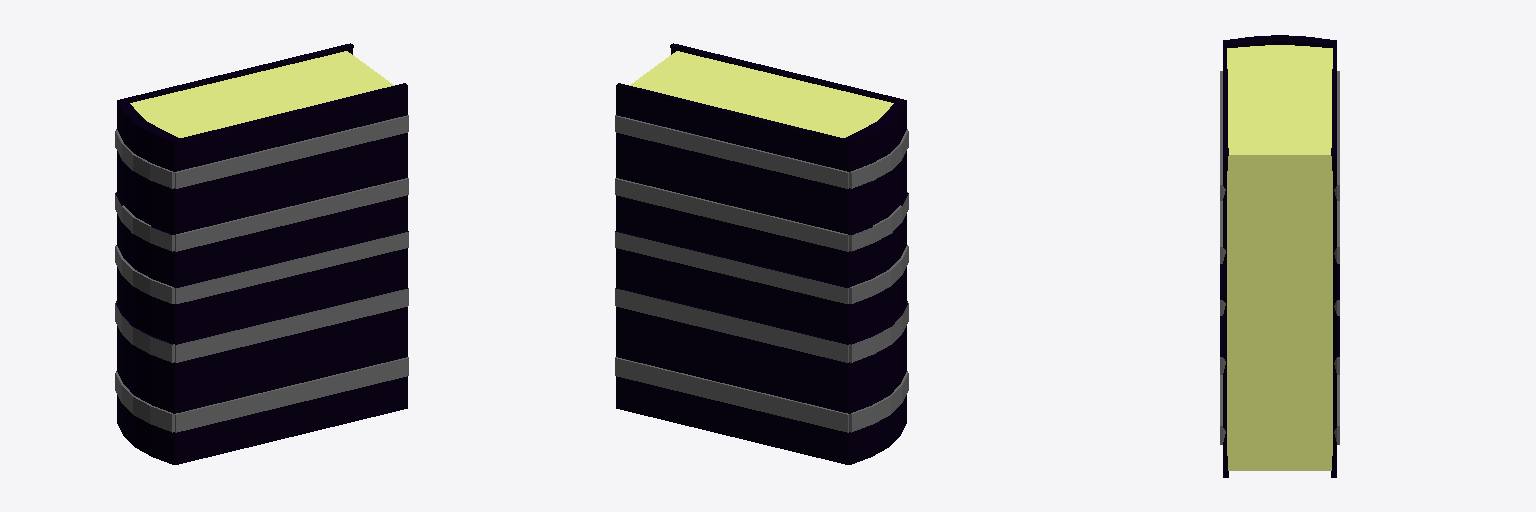
The model's file is Book_03.obj.
The picture shows the model from 3 angles: view 1: azimuth 30°, elevation 25°; view 2: azimuth 150°, elevation 25°; view 3: azimuth 270°, elevation 25°; orthographic projection.
Parts seen in each view (by area): view 1: Book_03_Cube.006; view 2: Book_03_Cube.006; view 3: Book_03_Cube.006.
Part boxes in pixels (x1,y1,x2,y2): Book_03_Cube.006: (115,43,408,464); Book_03_Cube.006: (615,43,908,464); Book_03_Cube.006: (1220,35,1339,477).
Size of the model in its own units: 8.68 by 10.86 by 3.62.